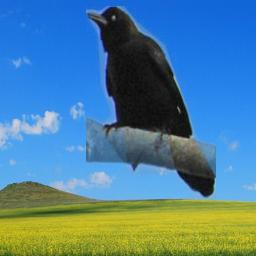Crow: (86, 6, 216, 198)
